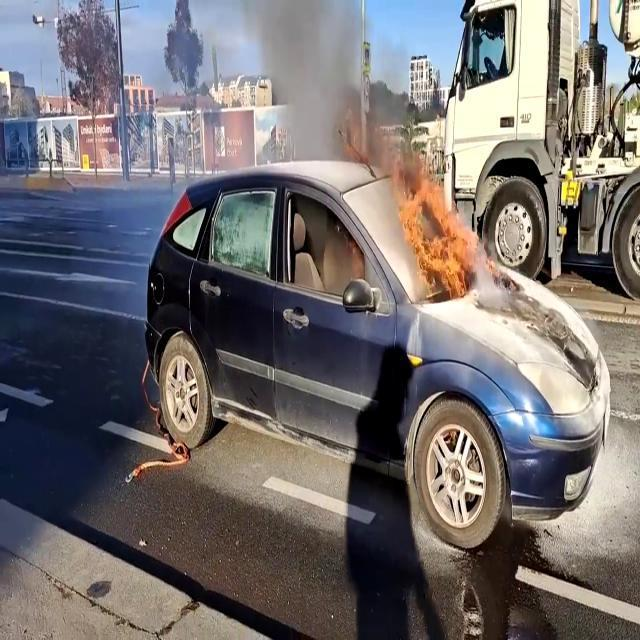Fire: (398, 164, 480, 304)
Smoke: (229, 0, 413, 176)
